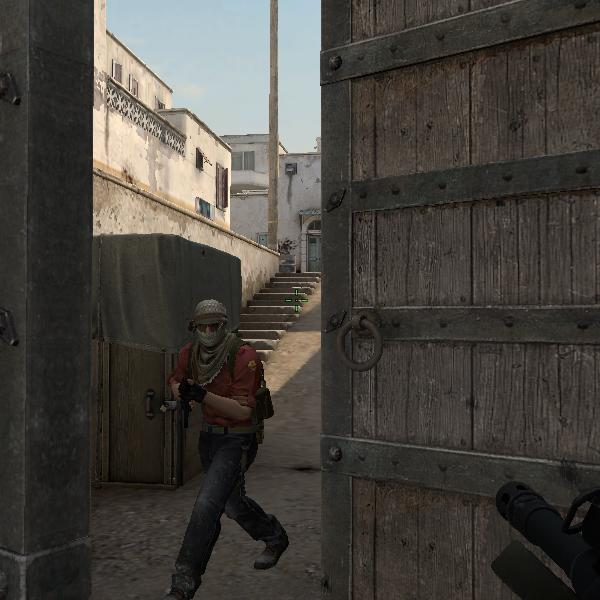t_body: (162, 296, 293, 598)
t_head: (187, 299, 232, 353)
